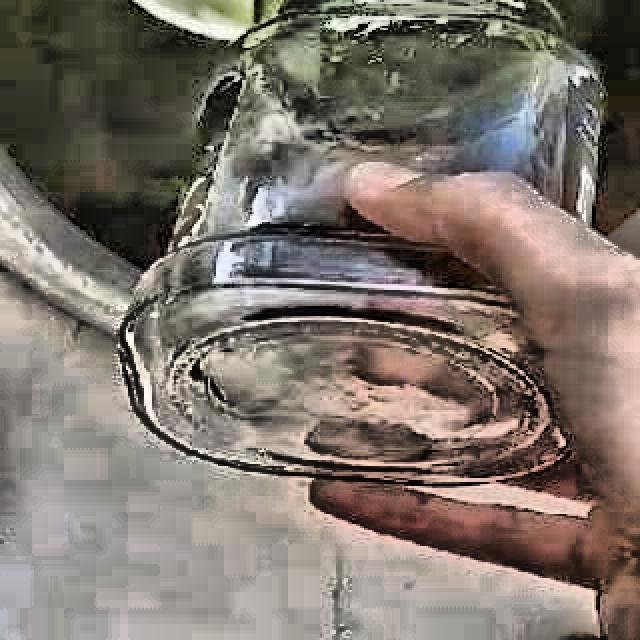glass: (120, 0, 603, 484)
